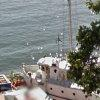Boat: (20, 51, 100, 100)
